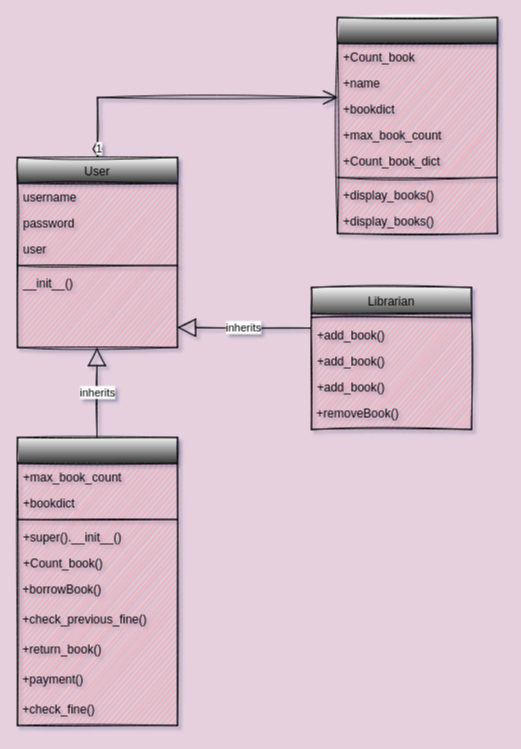
Some shapes in this 521 by 749 pixel diagram are drawn without their labels. The shapes that lost their labels are listed below. From the top down, each one's box as (x1, y1, x2, y2) in pixels, then its label:
(336, 16, 498, 234): Library
(16, 436, 178, 726): Member
